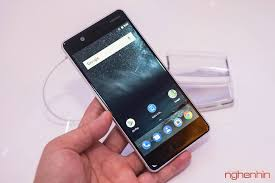nokia: (57, 6, 217, 174)
